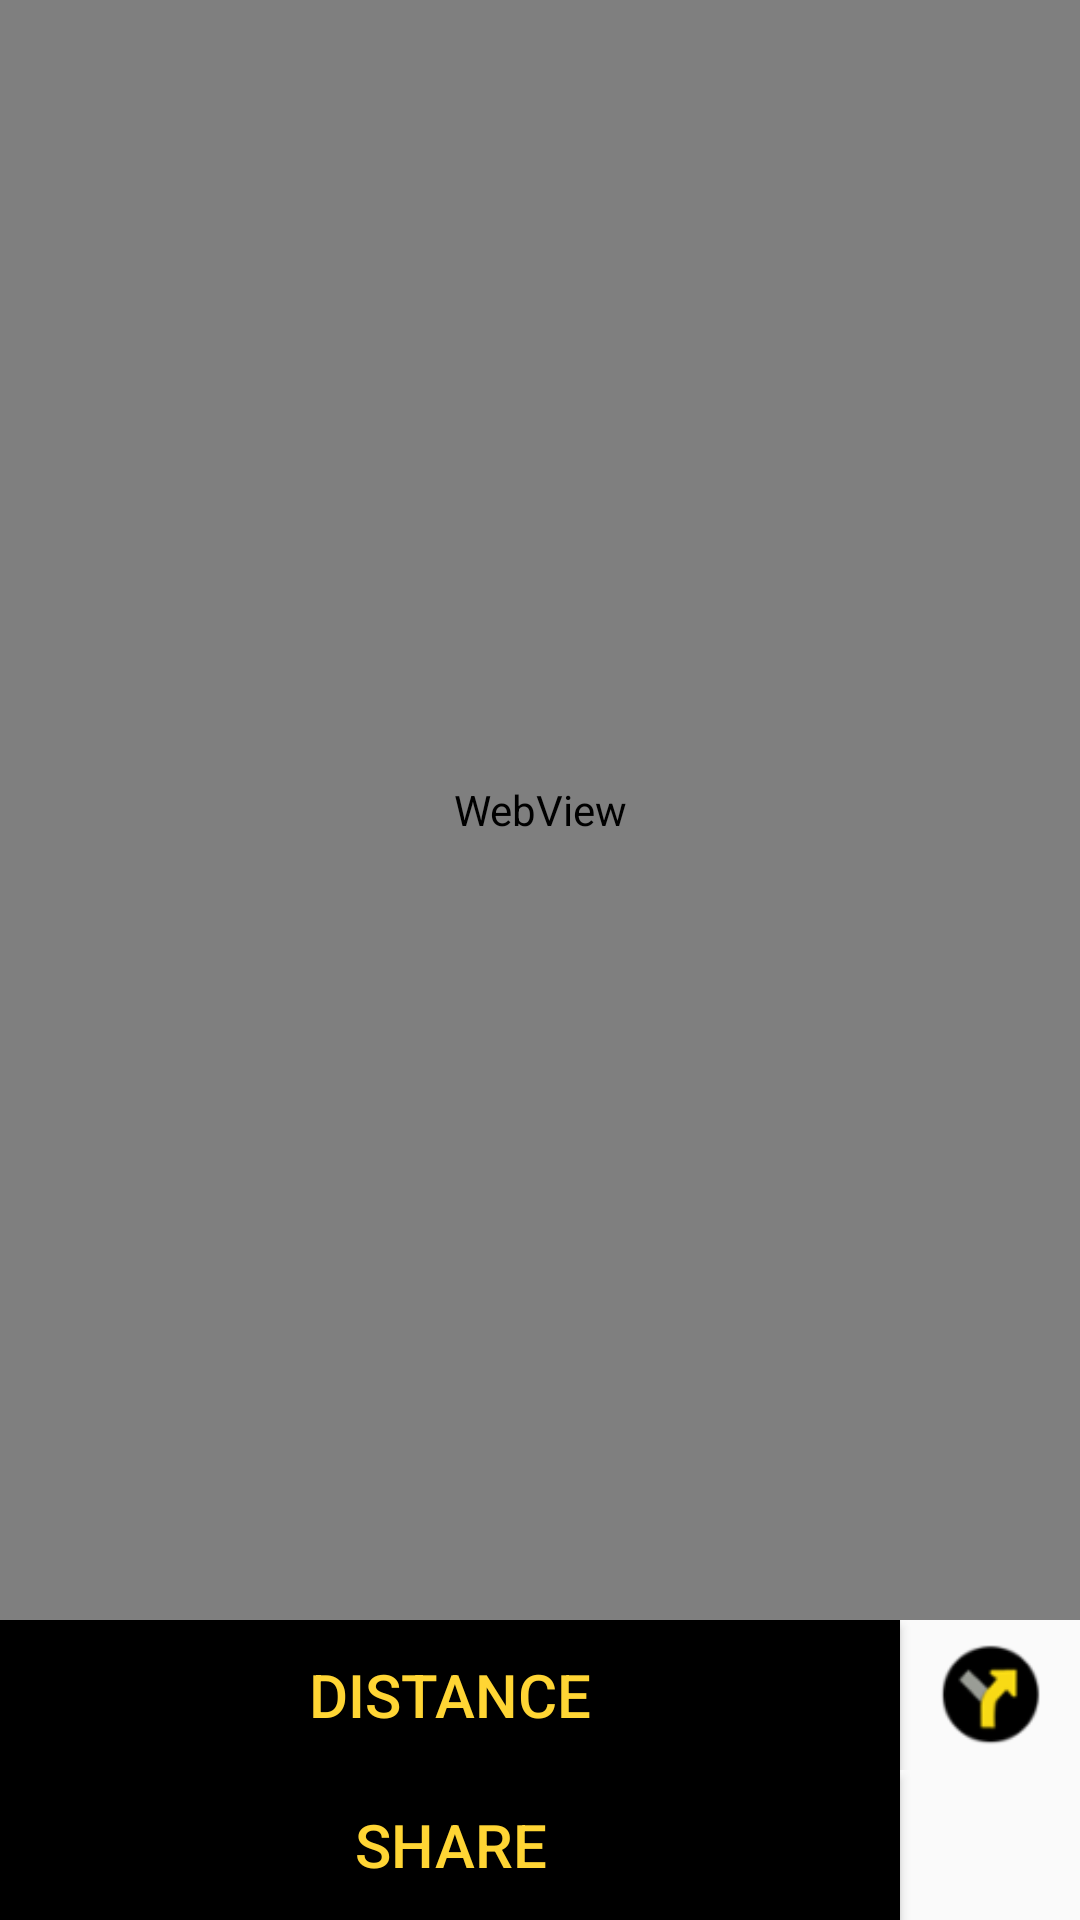

Point at icon controls on the screen. Image size 1080px×1920px, points as (x,y).
direction: (990,1695)
